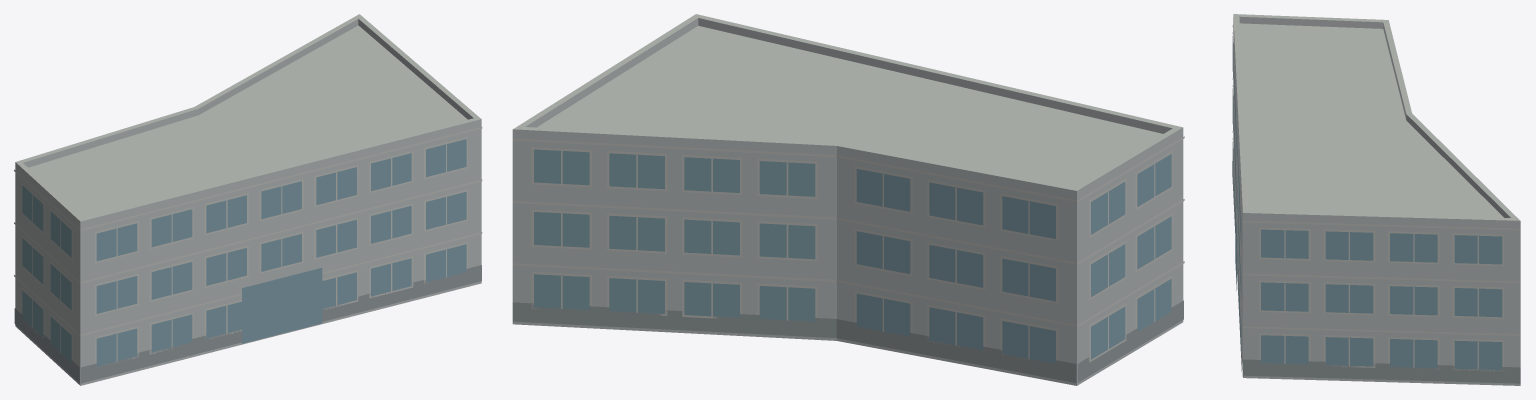
File: public-13e1da5d-465f-4ef8-82a9-9e3ef01a15a3.glb
The picture shows the model from 3 angles, left to right: view 1: azimuth 30°, elevation 25°; view 2: azimuth 150°, elevation 25°; view 3: azimuth 270°, elevation 25°; orthographic projection. The views are drawn at different scales.
Visible parts, largest first — view 1: public-13e1da5d-465f-4ef8-82a9-9e3ef01a15a3; view 2: public-13e1da5d-465f-4ef8-82a9-9e3ef01a15a3; view 3: public-13e1da5d-465f-4ef8-82a9-9e3ef01a15a3.
Boxes of the visible parts, <box> form: public-13e1da5d-465f-4ef8-82a9-9e3ef01a15a3: <box>14,14,482,385</box>; public-13e1da5d-465f-4ef8-82a9-9e3ef01a15a3: <box>512,14,1184,385</box>; public-13e1da5d-465f-4ef8-82a9-9e3ef01a15a3: <box>1232,14,1520,385</box>.
Size of the model in its own units: 24.73 by 9.15 by 15.51.
